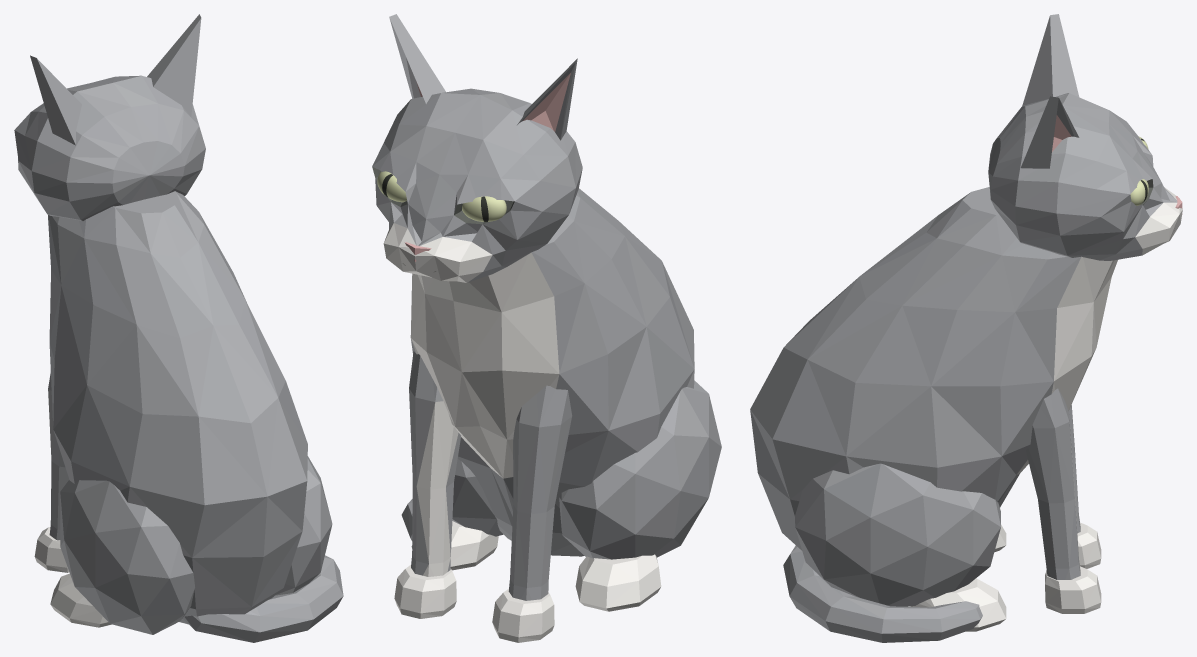
Rendered from cat_fit_r5.glb.
3 views of the same model, side by side, from view 1: azimuth 30°, elevation 25°; view 2: azimuth 150°, elevation 25°; view 3: azimuth 270°, elevation 25° (orthographic). The views are drawn at different scales.
Visible parts, largest first — view 1: Rounded_Torso_MASTER, Sculpted_Head_MASTER, Haunch_Right_MASTER, Curled_tail_MASTER, Haunch_Left_MASTER, Thick_Ear_Left_MASTER, Thick_Ear_Right_MASTER, Hind_paw_Right_MASTER, Foreleg_Right_MASTER, Front_paw_Right_MASTER; view 2: Rounded_Torso_MASTER, Sculpted_Head_MASTER, Haunch_Right_MASTER, Foreleg_Right_MASTER, Foreleg_Left_MASTER, Hind_paw_Right_MASTER, Front_paw_Right_MASTER, Front_paw_Left_MASTER, Haunch_Left_MASTER, Thick_Ear_Right_MASTER, Thick_Ear_Left_MASTER, Hind_paw_Left_MASTER (+2 smaller); view 3: Rounded_Torso_MASTER, Haunch_Left_MASTER, Sculpted_Head_MASTER, Curled_tail_MASTER, Foreleg_Left_MASTER, Thick_Ear_Right_MASTER, Front_paw_Left_MASTER, Thick_Ear_Left_MASTER, Hind_paw_Left_MASTER, Front_paw_Right_MASTER.
Part boxes in pixels (box(x1,y1,x2,y2)): Rounded_Torso_MASTER: box(48, 191, 307, 624); Sculpted_Head_MASTER: box(14, 75, 205, 221); Haunch_Right_MASTER: box(60, 480, 194, 634); Curled_tail_MASTER: box(183, 555, 343, 642); Haunch_Left_MASTER: box(275, 456, 332, 595); Thick_Ear_Left_MASTER: box(147, 14, 201, 117); Thick_Ear_Right_MASTER: box(30, 55, 81, 145); Hind_paw_Right_MASTER: box(50, 573, 111, 627); Foreleg_Right_MASTER: box(48, 372, 69, 540); Front_paw_Right_MASTER: box(34, 527, 69, 572); Rounded_Torso_MASTER: box(410, 188, 694, 556); Sculpted_Head_MASTER: box(372, 88, 582, 282); Haunch_Right_MASTER: box(559, 380, 721, 559); Foreleg_Right_MASTER: box(508, 385, 572, 600); Foreleg_Left_MASTER: box(409, 351, 460, 576); Hind_paw_Right_MASTER: box(575, 554, 661, 611); Front_paw_Right_MASTER: box(492, 588, 554, 642); Front_paw_Left_MASTER: box(394, 565, 456, 618); Haunch_Left_MASTER: box(452, 459, 503, 536); Thick_Ear_Right_MASTER: box(517, 58, 577, 140); Thick_Ear_Left_MASTER: box(389, 14, 445, 103); Hind_paw_Left_MASTER: box(411, 521, 498, 570); Rounded_Torso_MASTER: box(750, 187, 1117, 550); Haunch_Left_MASTER: box(795, 463, 1000, 606); Sculpted_Head_MASTER: box(988, 93, 1182, 260); Curled_tail_MASTER: box(783, 545, 982, 642); Foreleg_Left_MASTER: box(1026, 388, 1080, 579); Thick_Ear_Right_MASTER: box(1022, 14, 1079, 105); Front_paw_Left_MASTER: box(1045, 566, 1101, 613); Thick_Ear_Left_MASTER: box(1021, 96, 1079, 168); Hind_paw_Left_MASTER: box(910, 578, 1006, 631); Front_paw_Right_MASTER: box(1077, 522, 1101, 568).
Size of the model in its own units: 0.0762 by 0.15 by 0.1118.
